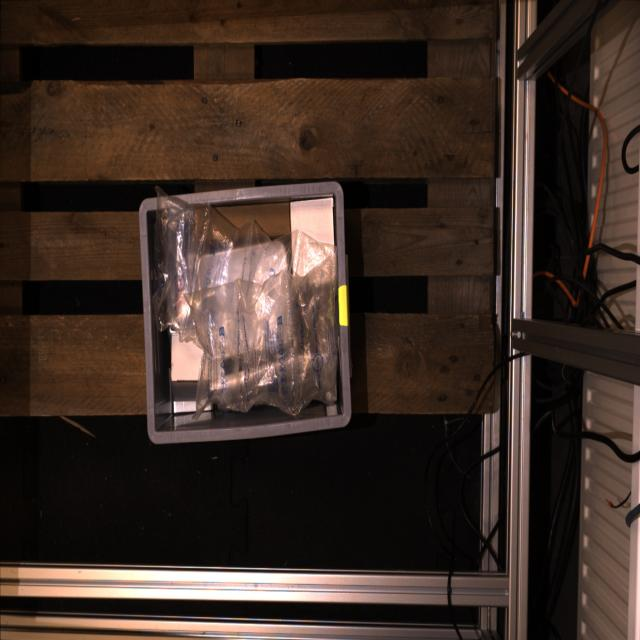CardboardBox: (290, 197, 336, 277), (215, 203, 290, 238), (171, 335, 202, 380)
PackagingAirBags: (152, 193, 337, 414)
PlasticContainer: (198, 238, 288, 289), (247, 219, 252, 222)
